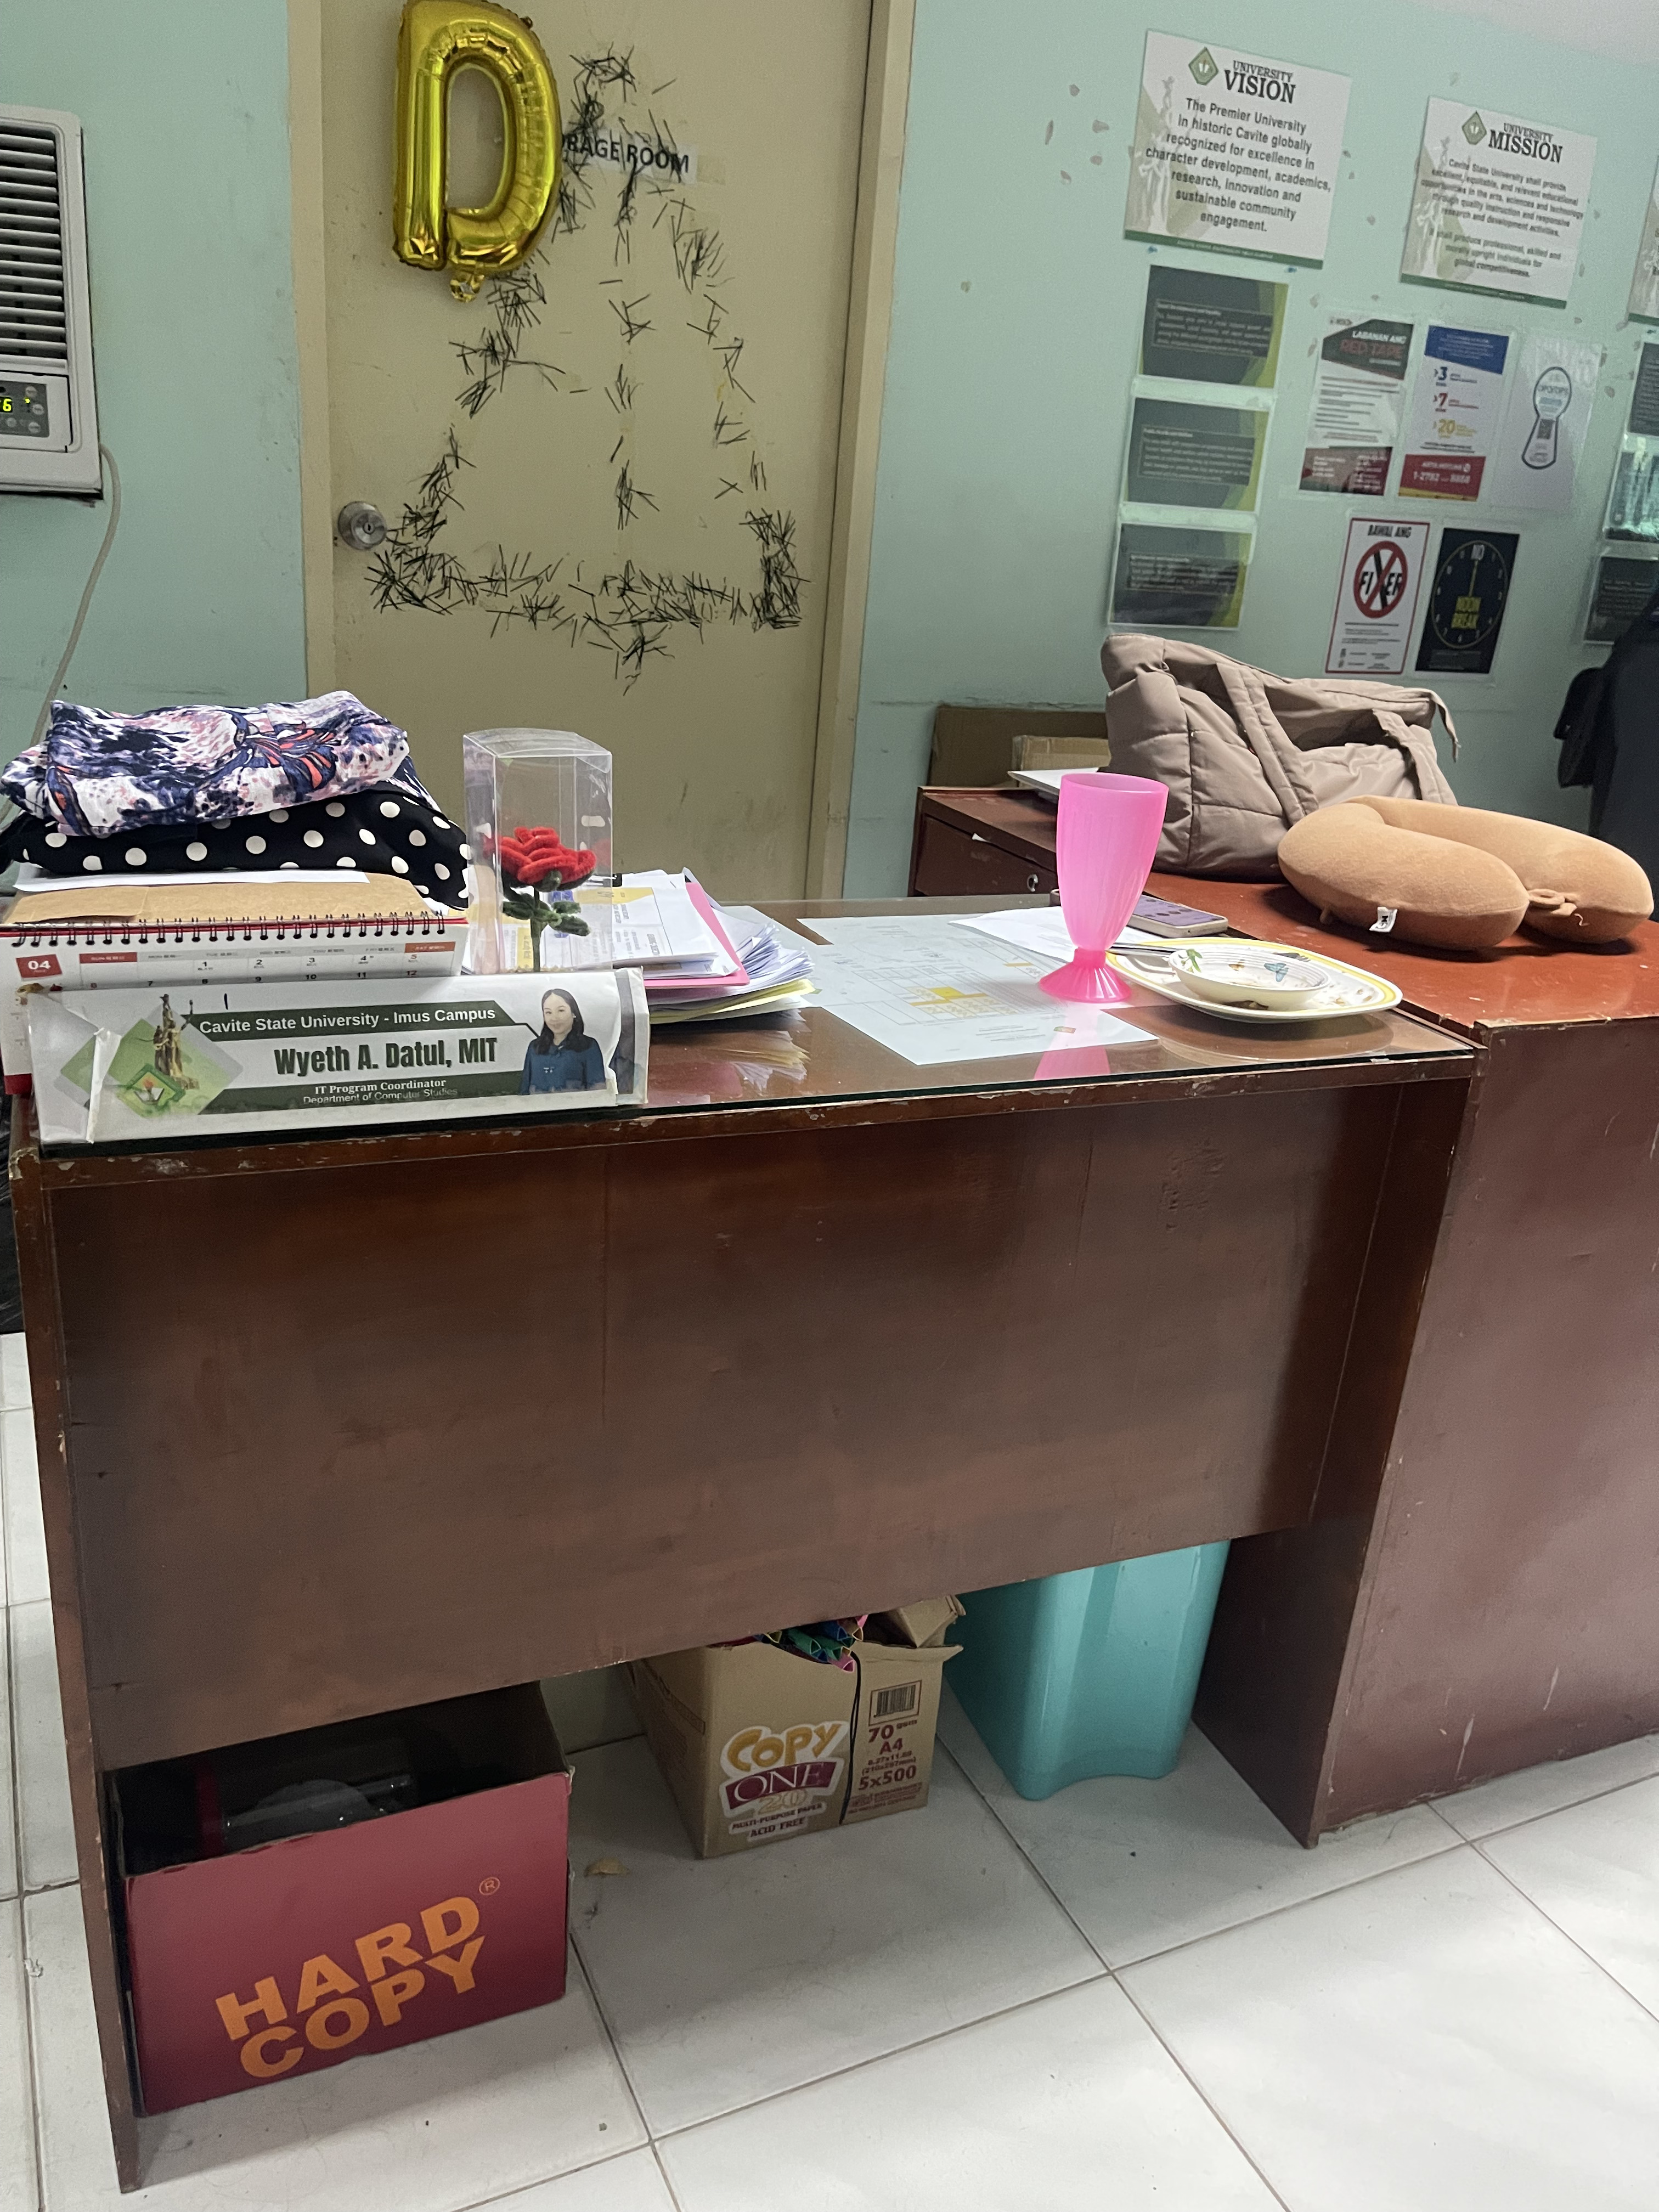table2: (54, 742, 1649, 2212)
